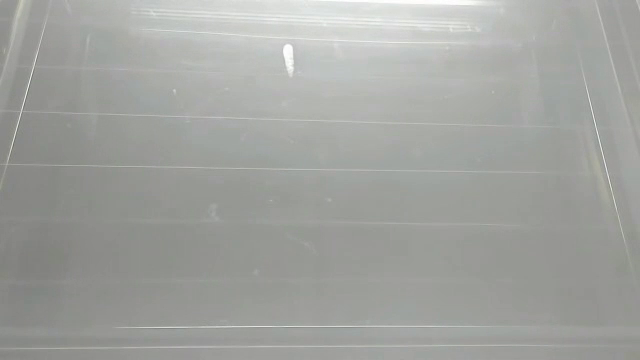alpha: (280, 41, 299, 79)
